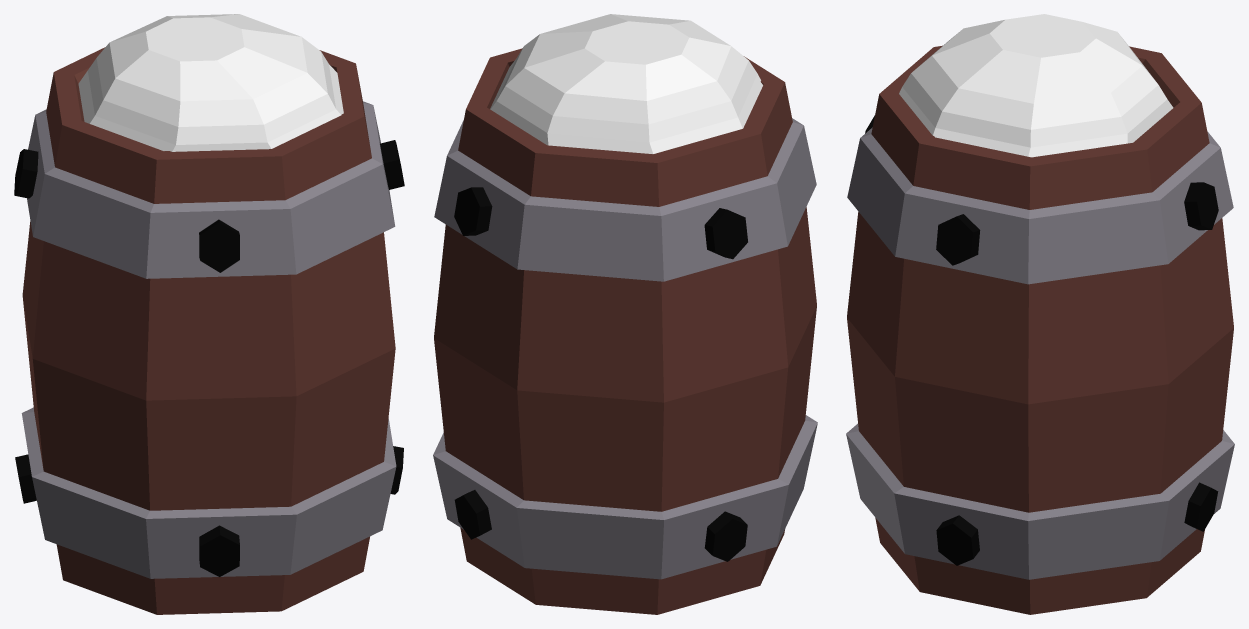
The model's file is gunpowder_barrel.fbx.
3 renders of one model, left to right at view 1: azimuth 30°, elevation 25°; view 2: azimuth 150°, elevation 25°; view 3: azimuth 270°, elevation 25°, orthographic.
Parts seen in each view (by area): view 1: gunpowder_barrel; view 2: gunpowder_barrel; view 3: gunpowder_barrel.
Part boxes in pixels (x1,y1,x2,y2): gunpowder_barrel: (14, 14, 404, 614); gunpowder_barrel: (433, 14, 817, 614); gunpowder_barrel: (846, 14, 1234, 614).
Size of the model in its own units: 62.71 by 89.85 by 62.71.
